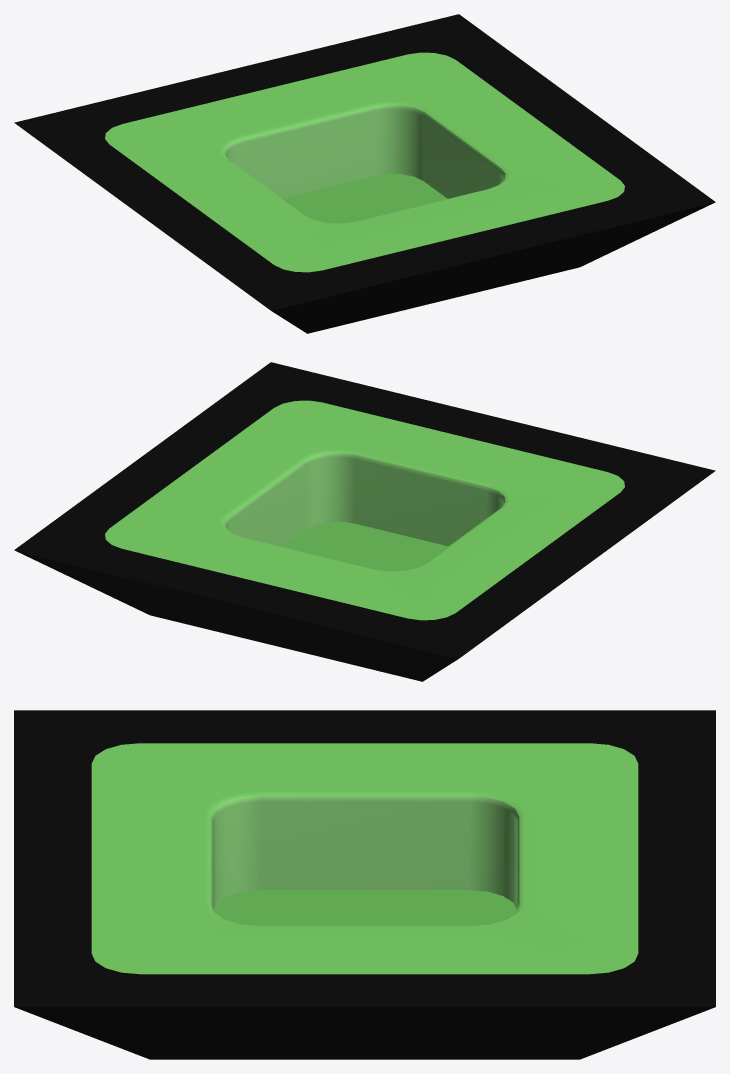
The model's file is Cell_Green_V3.fbx.
The picture shows the model from 3 angles, top to bottom: view 1: azimuth 30°, elevation 25°; view 2: azimuth 150°, elevation 25°; view 3: azimuth 270°, elevation 25°; orthographic projection. The views are drawn at different scales.
Visible parts, largest first — view 1: Tile_Green, Cell_Border; view 2: Tile_Green, Cell_Border; view 3: Tile_Green, Cell_Border.
Boxes of the visible parts, x1,y1,x2,y2 form: Tile_Green: (105, 52, 624, 272); Cell_Border: (14, 14, 715, 333); Tile_Green: (105, 400, 624, 620); Cell_Border: (14, 362, 715, 681); Tile_Green: (91, 743, 638, 974); Cell_Border: (14, 710, 715, 1059).
Bounding box in the file's own units: 112 × 19.36 × 112.
